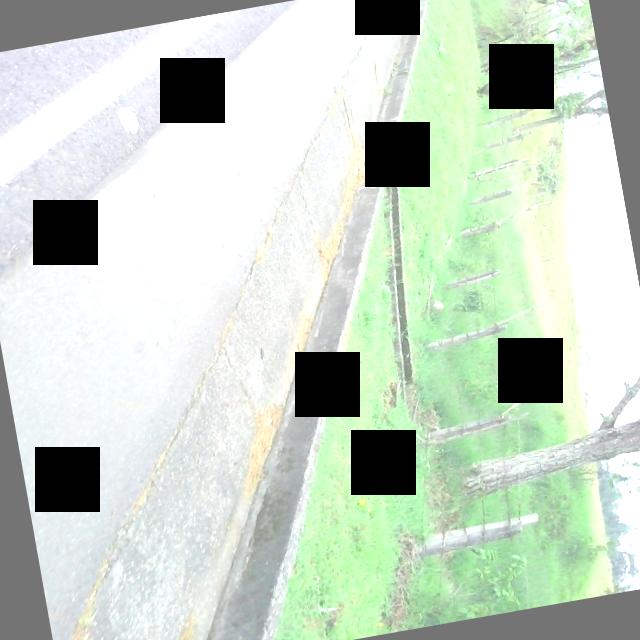DITCH: (0, 0, 640, 640), (0, 0, 566, 640), (0, 0, 539, 640)
